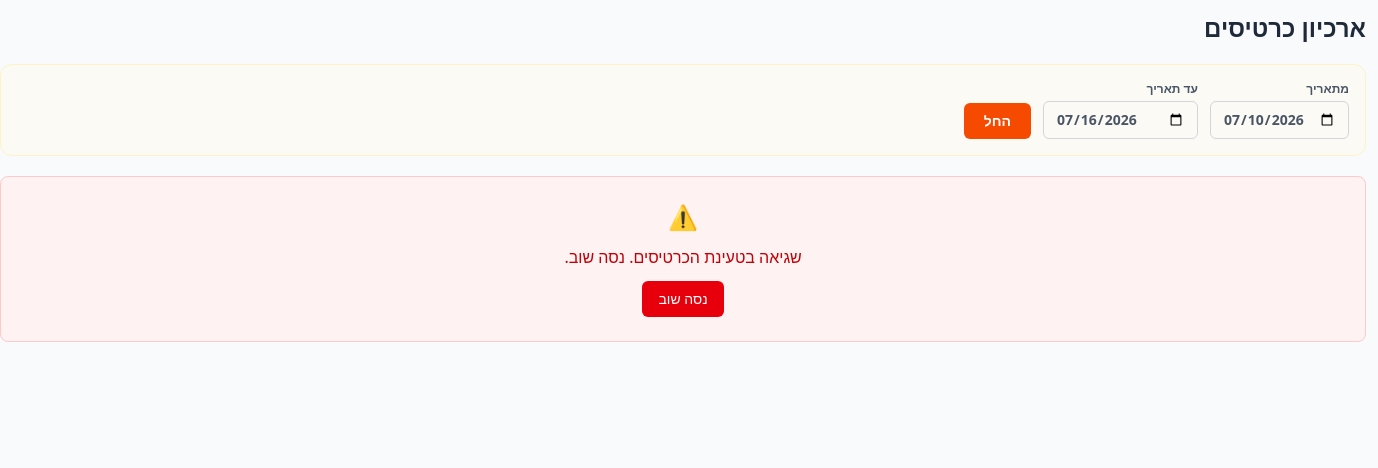
Test: MyTicketsPage — states › shows a Hebrew error state with retry that re-fetches
expect the message shows "שגיאה בטעינת הכרטיסים. נסה שוב.": met, box 564,246 -> 802,268
Click the button "נסה שוב" at (683, 299), box 642,281 -> 724,317
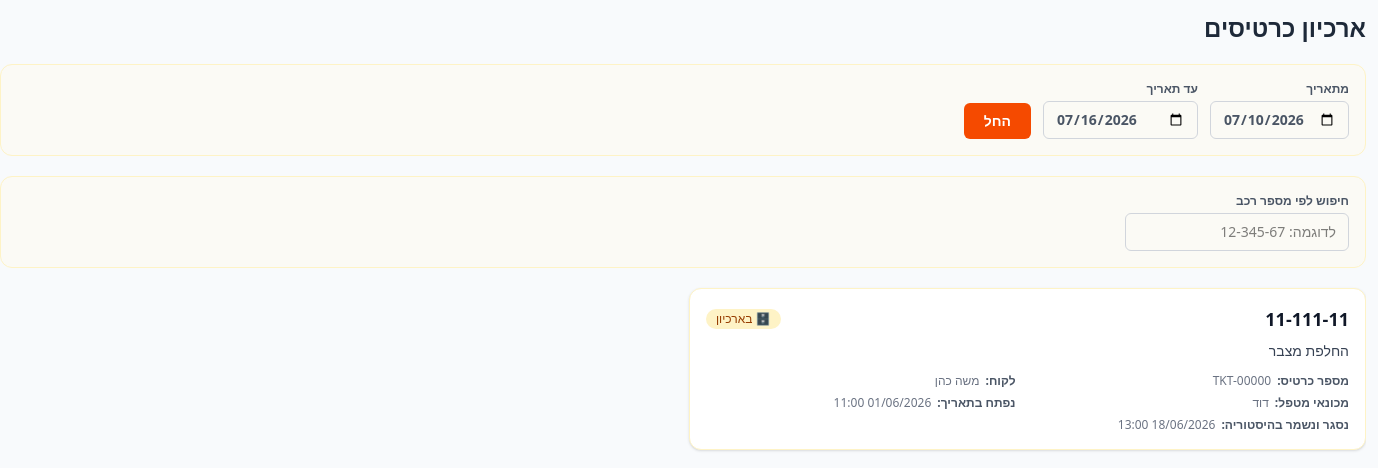
expect the text "11-111-11" is shown: met, box 1265,305 -> 1349,333
